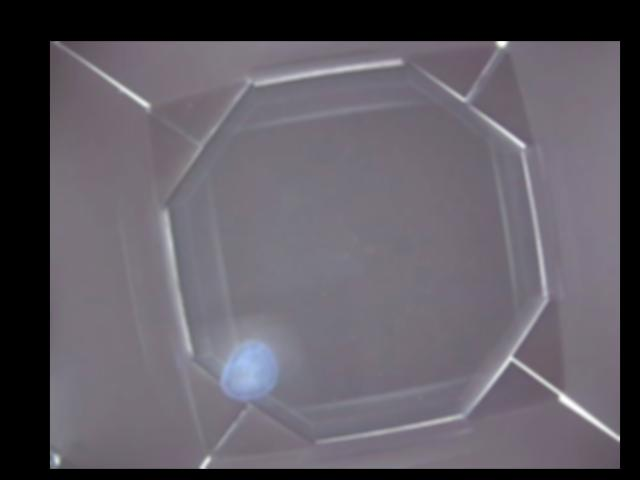Pebble: (221, 340, 279, 396)
